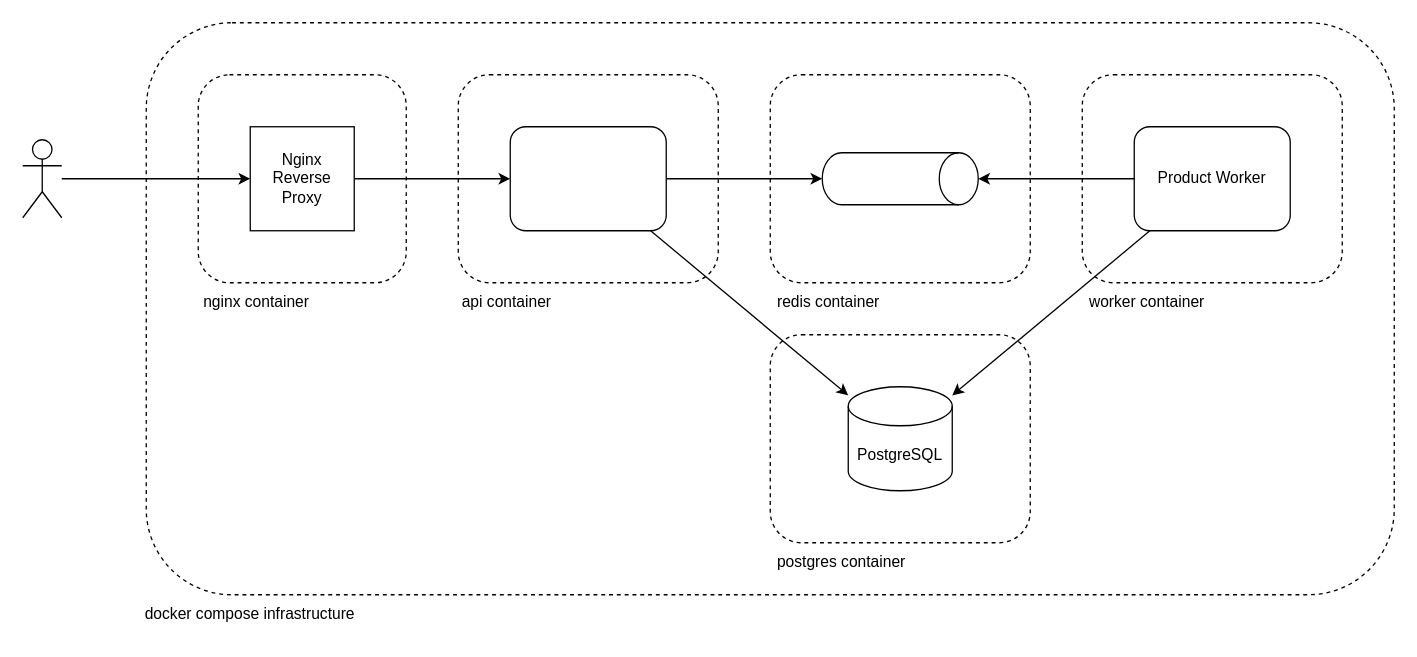
This 1417x657 diagram has some shape labels left out. The box of each missing label's shape, as (x1, y1, x2, y2) in pixels:
Product CRUD API: (509, 125, 666, 231)
Redis Queue: (821, 151, 978, 205)
